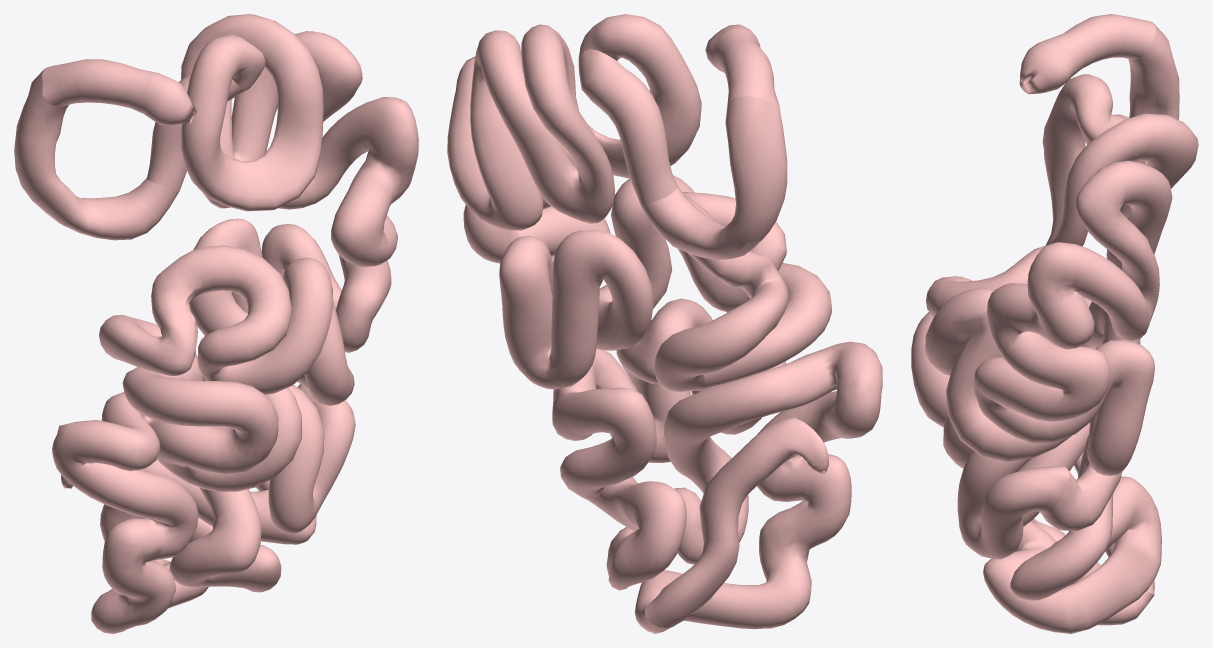
The model's file is gut_small.glb.
The picture shows the model from 3 angles, left to right: view 1: azimuth 30°, elevation 25°; view 2: azimuth 150°, elevation 25°; view 3: azimuth 270°, elevation 25°; orthographic projection. The views are drawn at different scales.
Visible parts, largest first — view 1: VH_M_ileum; view 2: VH_M_ileum; view 3: VH_M_ileum.
Part boxes in pixels (box(x1,y1,x2,y2)): VH_M_ileum: box(14, 14, 418, 633); VH_M_ileum: box(447, 14, 882, 633); VH_M_ileum: box(911, 14, 1198, 633).
Size of the model in its own units: 0.188 by 0.2654 by 0.1222.
